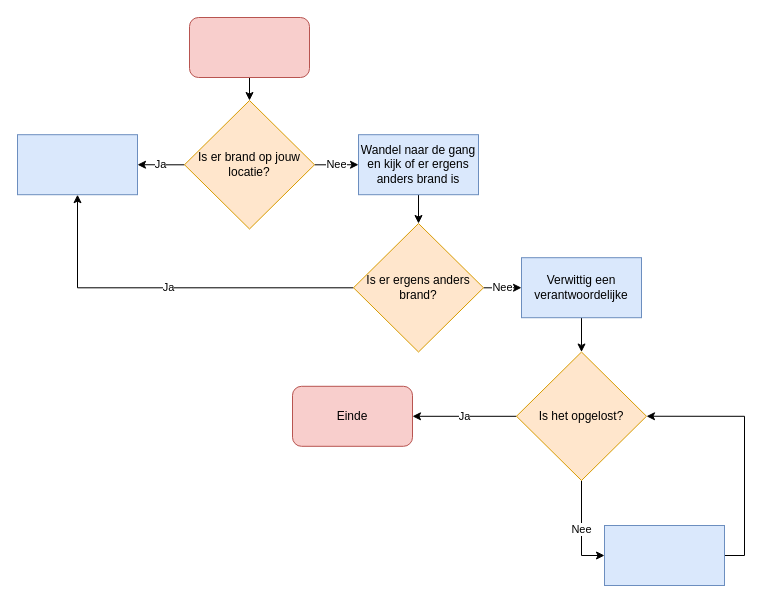
This 770x603 diagram has some shape labels left out. The shapes that lost their labels are listed below. From the top down, each one's centre as x and y in pixels, then its label:
(249,47): Brand alarm gaat af sproeiers aan
(77,164): Zoek een evacuatie plan op de gang en volg deze
(664,555): Zoek een technicus in het gebouw
